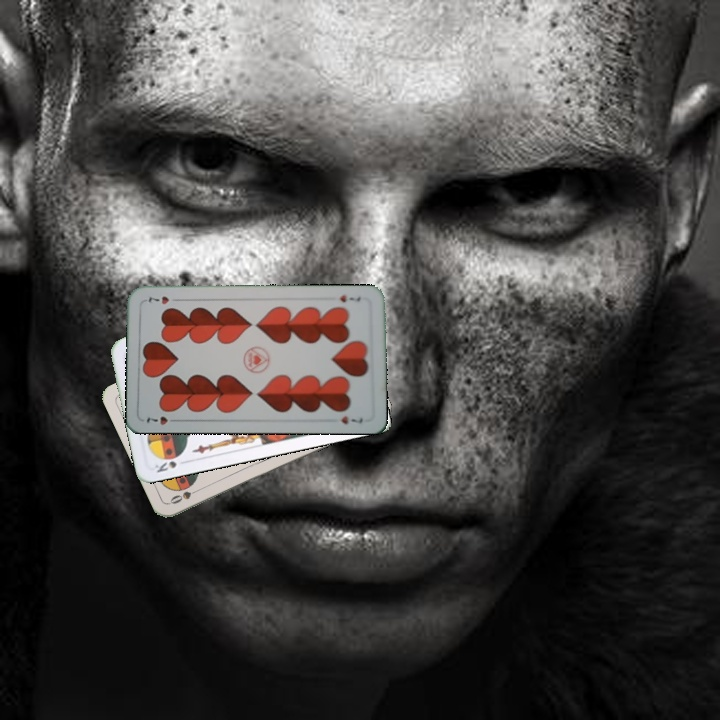H7: (142, 413, 182, 428), (336, 291, 363, 305)
SK: (151, 457, 179, 475)
SO: (166, 483, 205, 507)
